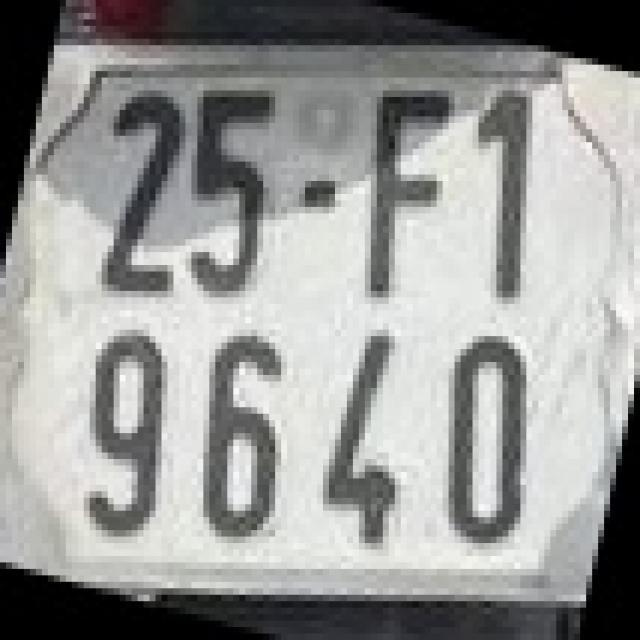0: (437, 330, 532, 550)
1: (466, 77, 544, 304)
2: (101, 84, 186, 298)
4: (323, 330, 407, 550)
5: (192, 84, 276, 298)
6: (197, 329, 287, 536)
9: (78, 329, 168, 536)
F: (358, 84, 454, 304)
